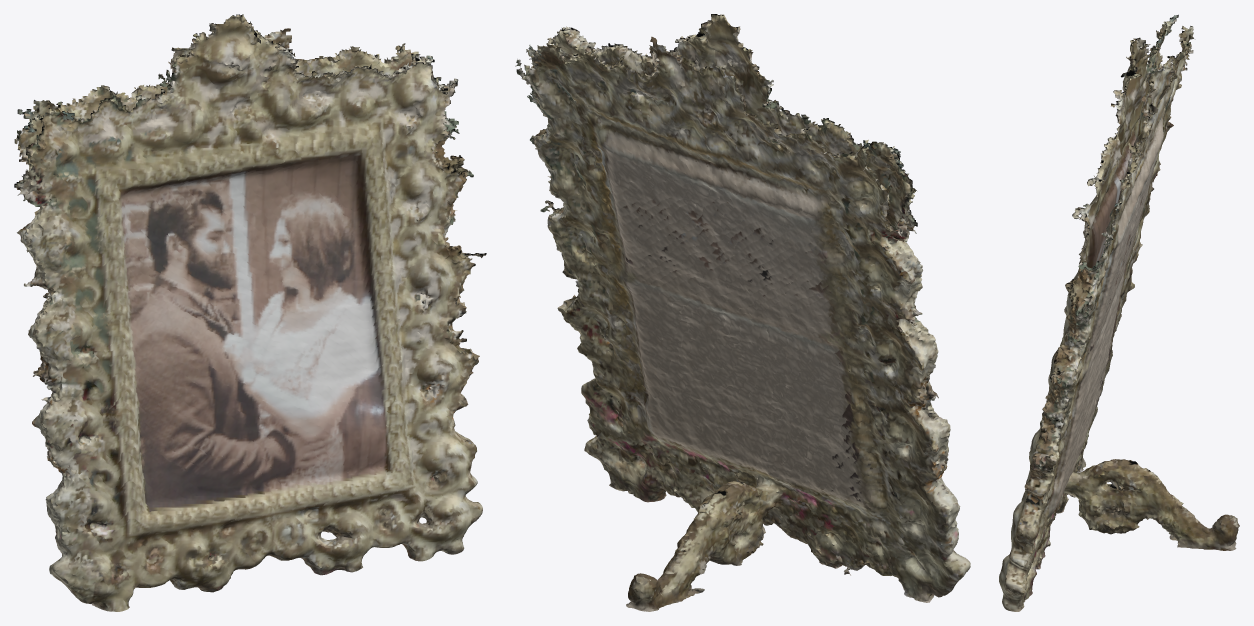
File: antique_picture_frame.glb
The picture shows the model from 3 angles, left to right: view 1: azimuth 30°, elevation 25°; view 2: azimuth 150°, elevation 25°; view 3: azimuth 270°, elevation 25°; orthographic projection. The views are drawn at different scales.
Visible parts, largest first — view 1: Geode; view 2: Geode; view 3: Geode.
Part boxes in pixels (left/top/right/bottom): Geode: left=14, top=14, right=486, bottom=611; Geode: left=515, top=14, right=970, bottom=611; Geode: left=999, top=14, right=1239, bottom=611.
Size of the model in its own units: 0.3509 by 0.4252 by 0.1864.
